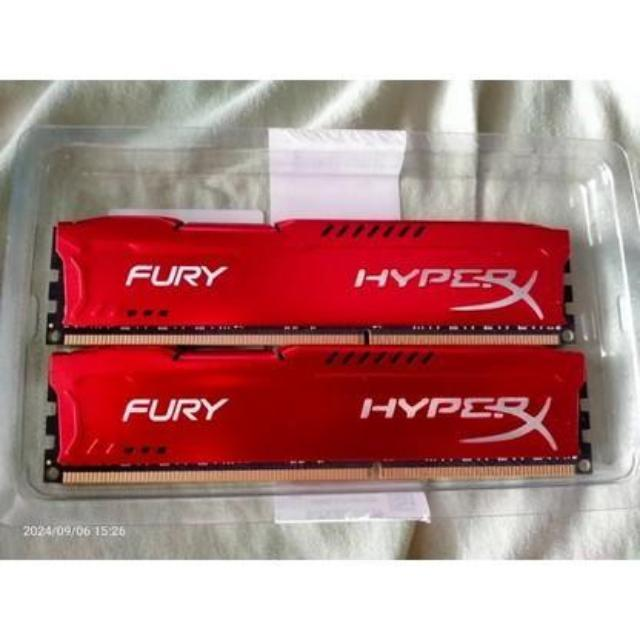RAM: (34, 348, 603, 494), (39, 210, 588, 353)
